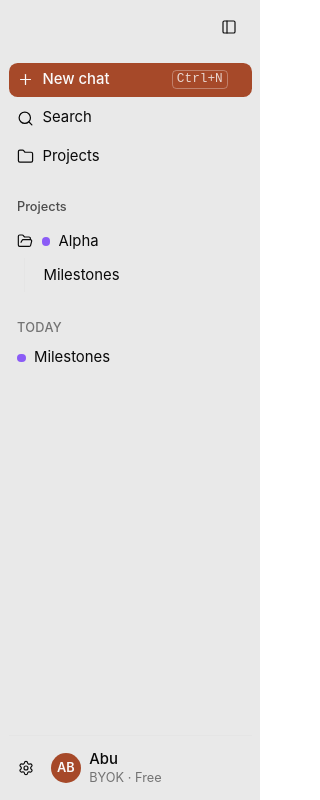
Test case: ProjectsRail folders › header click collapses and re-expands threads, chevron flips
The image size is (320, 800).
Click the button with test id "project-row-p1" at (130, 241), box [8,224,252,258]
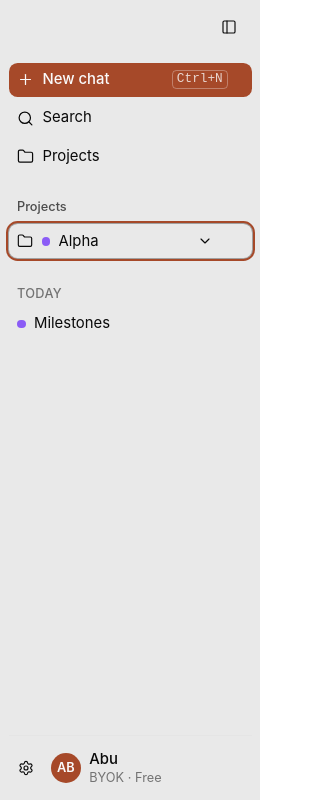
Check: the button with test id "project-row-p1" is collapsed
Check: the link with test id "thread-sub-t1" is gone
Click the button with test id "project-row-p1" at (130, 241), box [8,224,252,258]
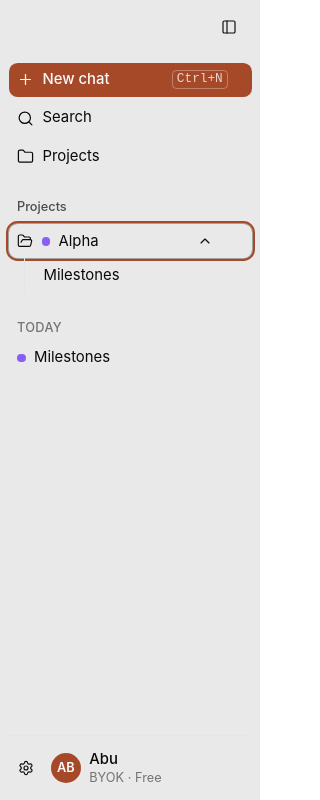
Check: the button with test id "project-row-p1" is expanded, box [8,224,252,258]
Check: the link with test id "thread-sub-t1" is shown, box [44,266,120,284]
